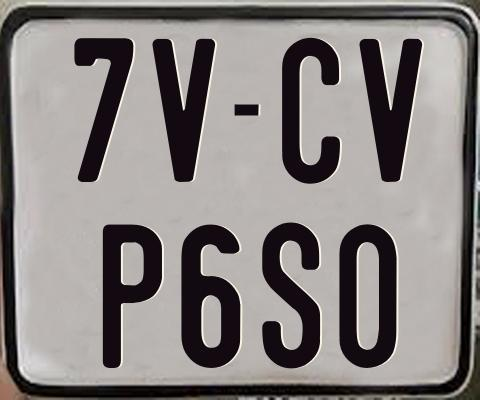0: (336, 222, 400, 368)
6: (178, 222, 242, 372)
7: (72, 35, 135, 180)
C: (282, 37, 340, 189)
P: (101, 222, 163, 370)
S: (262, 221, 321, 374)
V: (356, 38, 425, 186), (149, 37, 215, 186)
